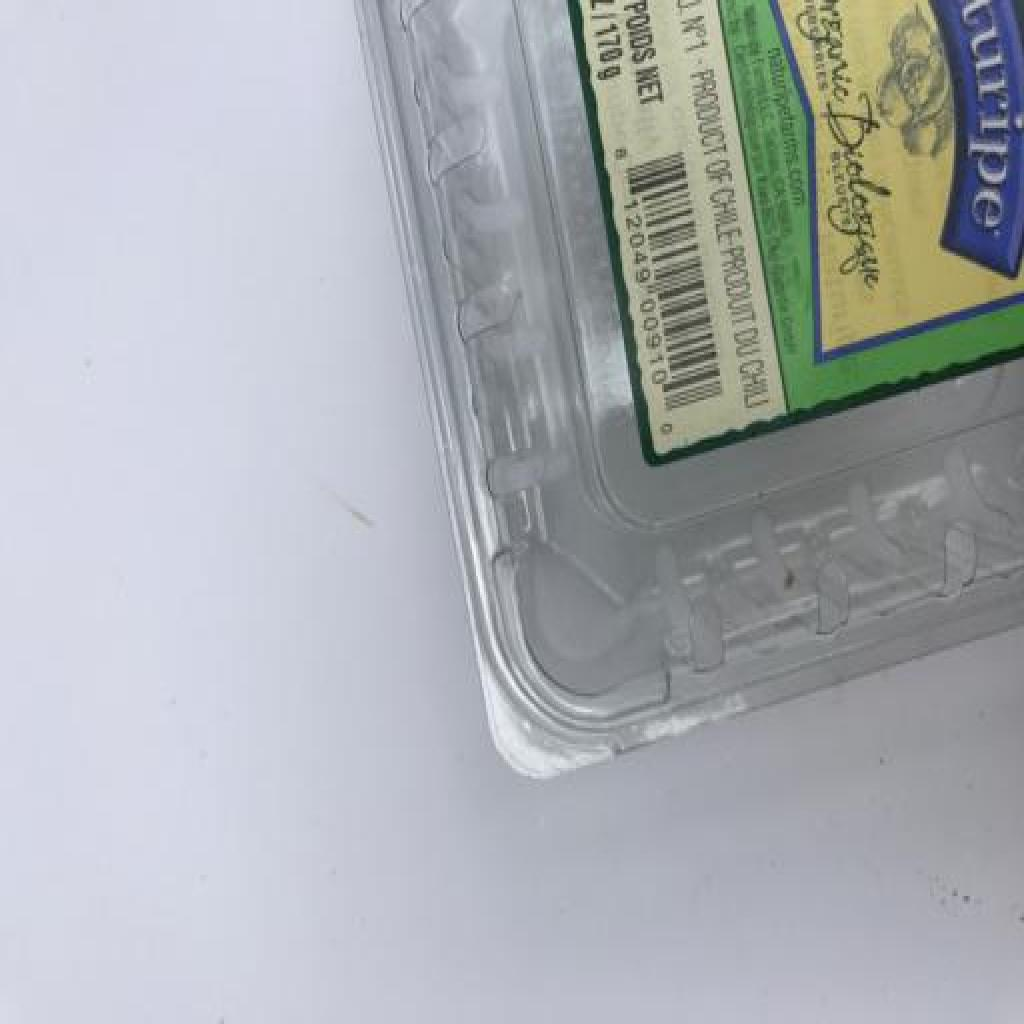organico: (369, 0, 1024, 801)
